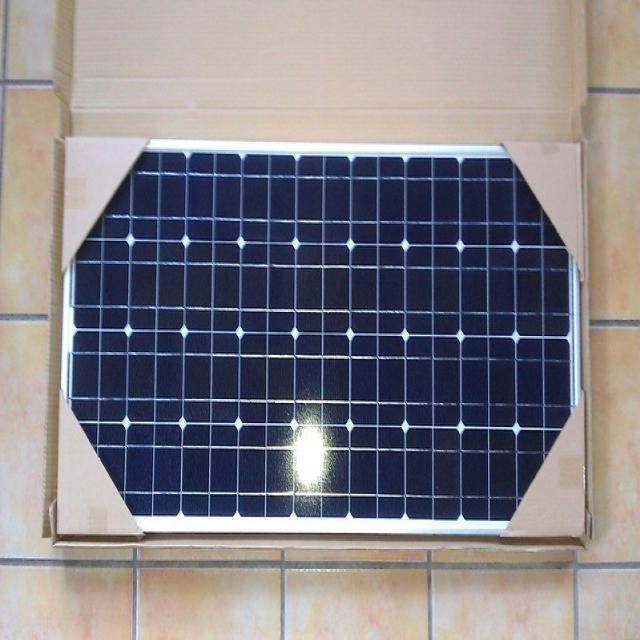no faulty: (84, 146, 569, 542)
